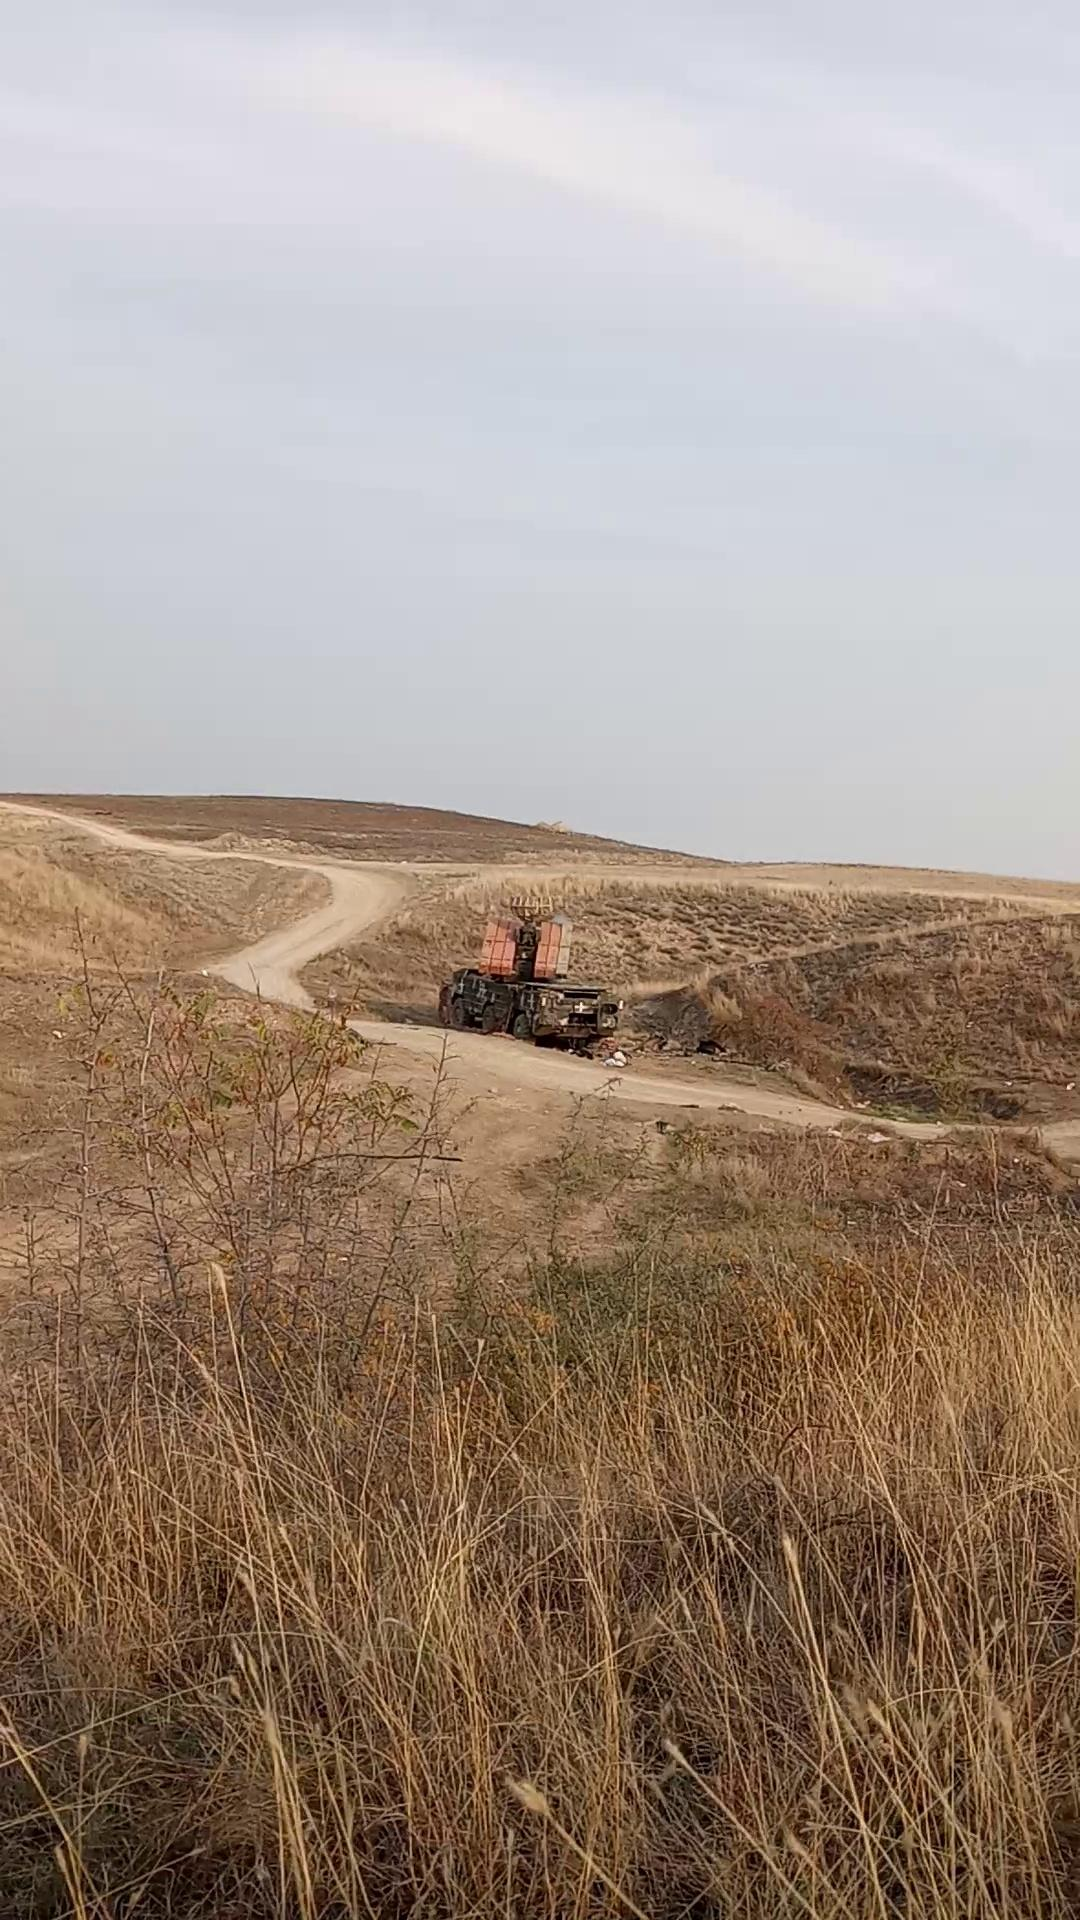MIL_SAM_TEL: (435, 891, 629, 1060)
